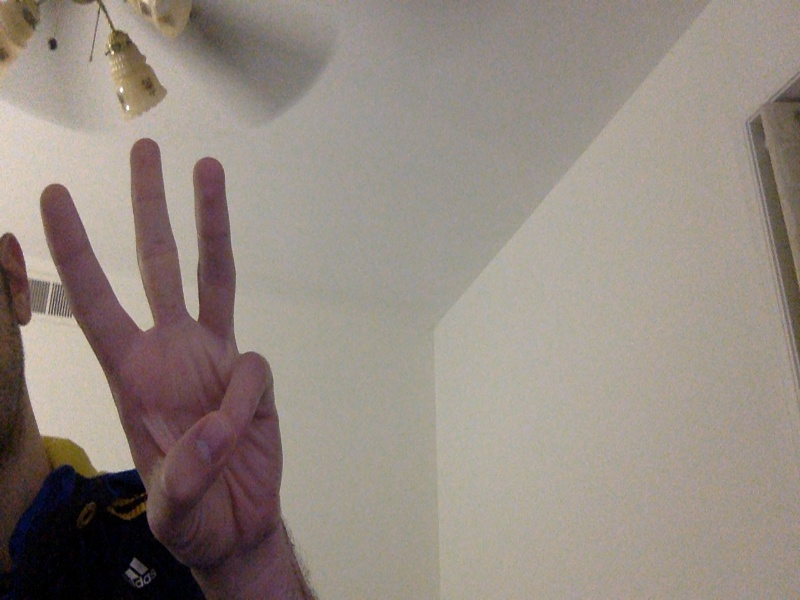3-hand: (41, 139, 283, 562)
